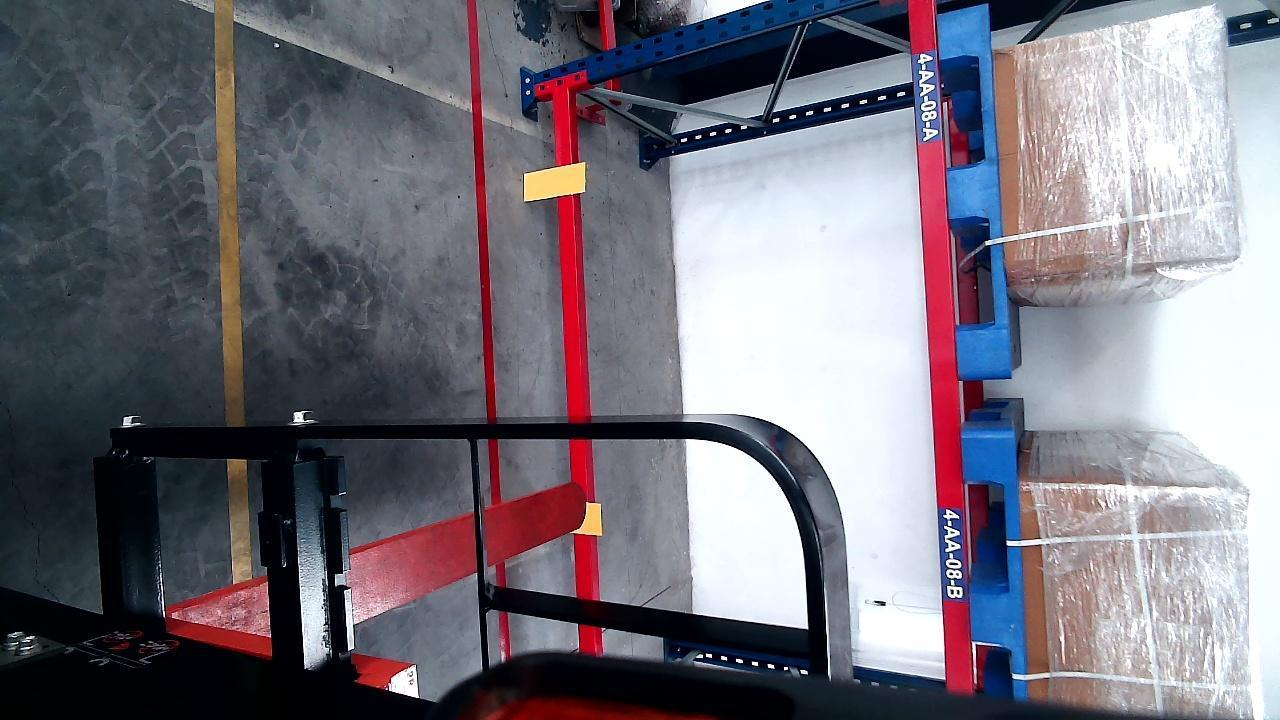h_rack: (913, 2, 970, 688), (550, 80, 599, 661)
orange_strip: (523, 163, 585, 200)
red_line: (469, 7, 509, 654)
small_pallet: (934, 0, 1013, 379), (966, 430, 1026, 694)
yellow_line: (216, 0, 248, 574)
